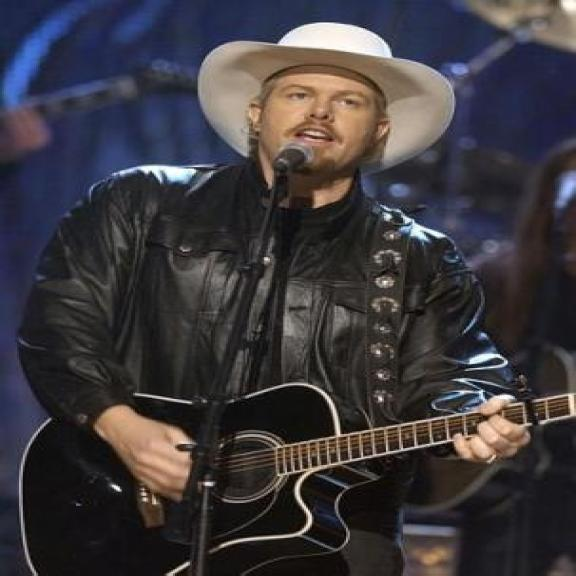face: (244, 73, 391, 178)
